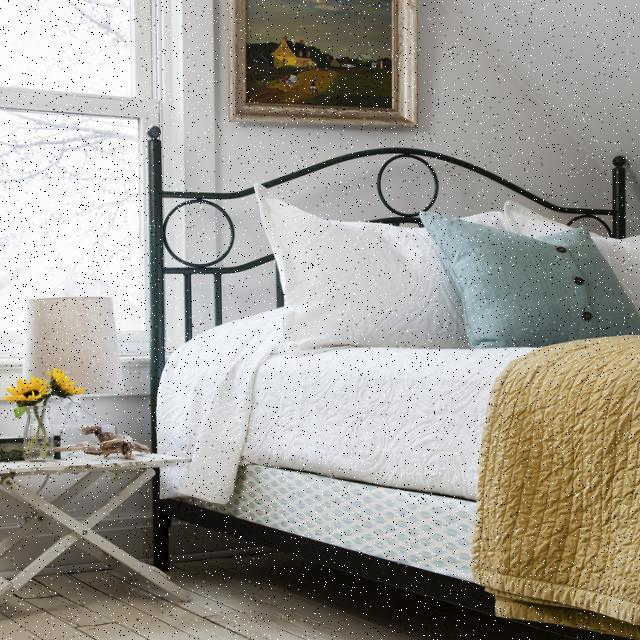bed: (128, 186, 640, 592)
